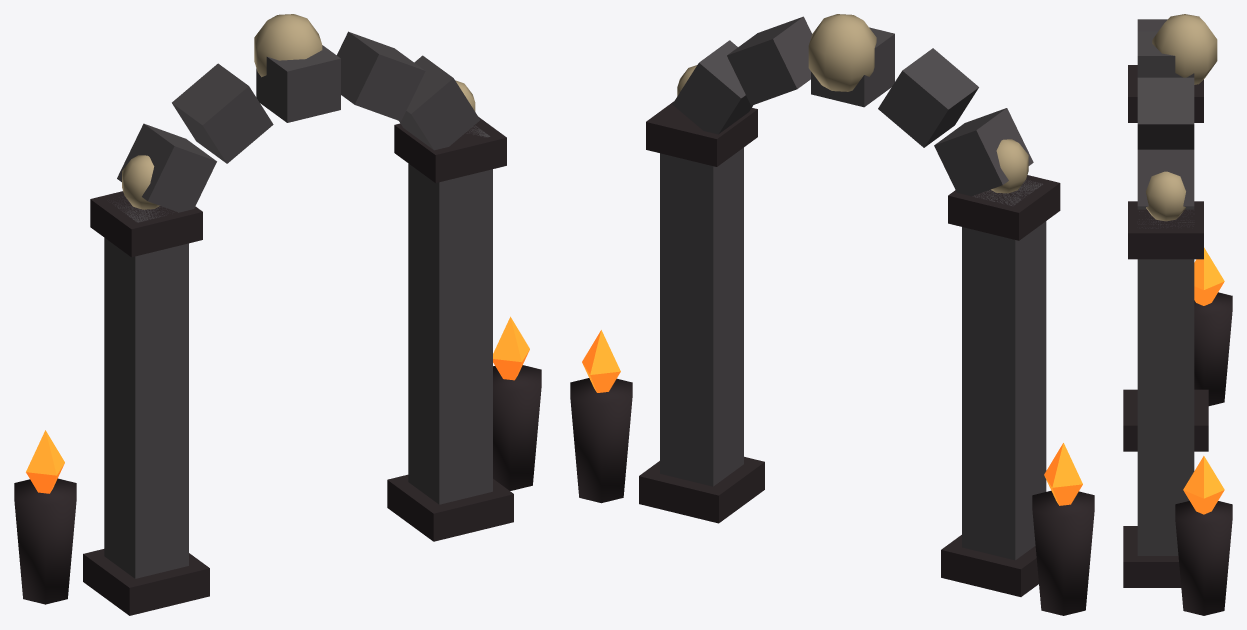
Rendered from raid_gate.glb.
3 views of the same model, side by side, from view 1: azimuth 30°, elevation 25°; view 2: azimuth 150°, elevation 25°; view 3: azimuth 270°, elevation 25° (orthographic). The views are drawn at different scales.
Parts seen in each view (by area): view 1: gate_stone, gate_rock, gate_bonew, gate_ember; view 2: gate_stone, gate_rock, gate_bonew, gate_ember; view 3: gate_stone, gate_rock, gate_bonew, gate_ember.
Boxes of the visible parts, x1=… form: gate_stone: x1=104, y1=31, x2=492, y2=578; gate_rock: x1=14, y1=117, x2=541, y2=615; gate_bonew: x1=122, y1=14, x2=475, y2=209; gate_ember: x1=26, y1=316, x2=529, y2=493; gate_stone: x1=660, y1=16, x2=1046, y2=560; gate_rock: x1=570, y1=101, x2=1094, y2=615; gate_bonew: x1=677, y1=14, x2=1028, y2=193; gate_ember: x1=582, y1=330, x2=1082, y2=505; gate_stone: x1=1137, y1=19, x2=1194, y2=555; gate_rock: x1=1123, y1=65, x2=1232, y2=615; gate_bonew: x1=1146, y1=14, x2=1217, y2=221; gate_ember: x1=1183, y1=247, x2=1224, y2=514.
Size of the model in its own units: 5.9 by 5.65 by 1.15.
